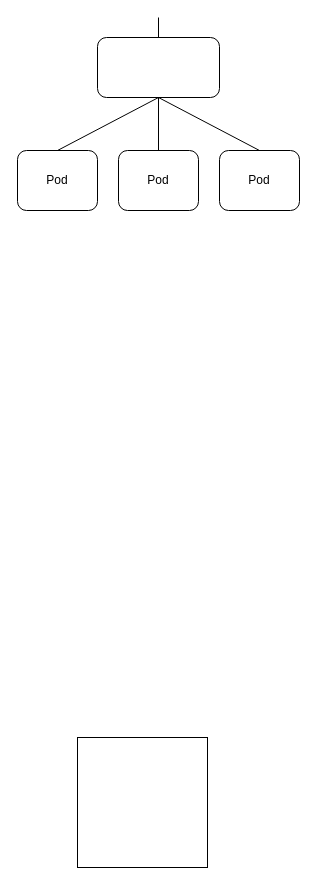
Some shapes in this 317 by 885 pixel diagram are drawn without their labels. Here are the shapes that lost their labels. From the top down, the box of each, then its label:
(96, 36, 220, 98): Service
(76, 736, 208, 868): ReplicaSet
